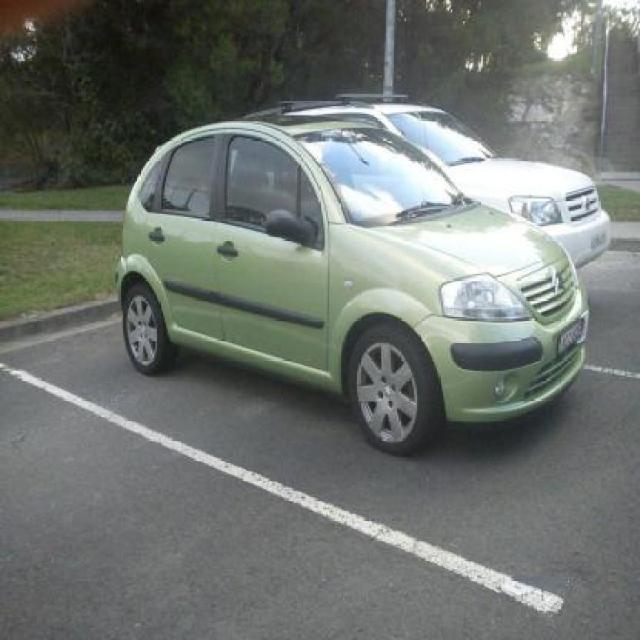License-Plates: (557, 318, 583, 359), (590, 230, 606, 248)
